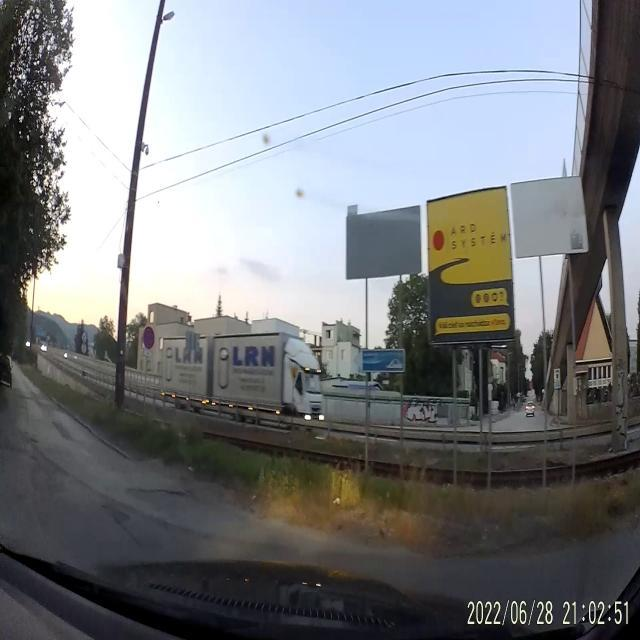Pothole: (127, 482, 196, 506), (100, 498, 134, 534), (25, 430, 42, 450)
